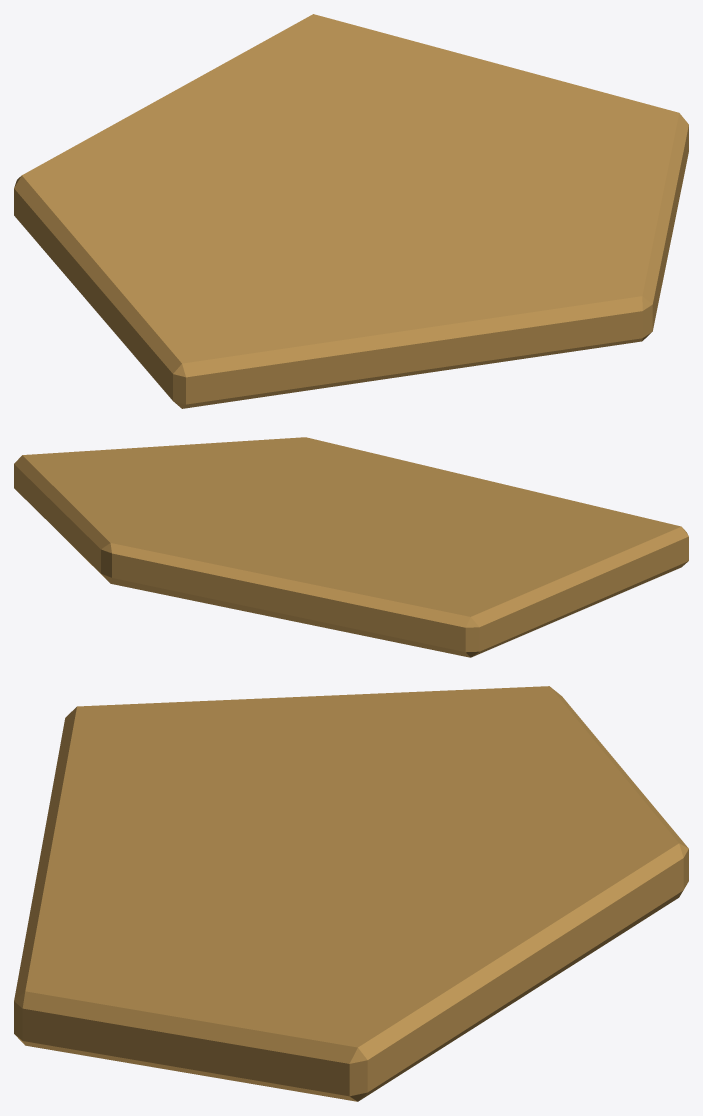
File: fx_shard_bronze.glb
The picture shows the model from 3 angles, top to bottom: view 1: azimuth 30°, elevation 25°; view 2: azimuth 150°, elevation 25°; view 3: azimuth 270°, elevation 25°; orthographic projection. The views are drawn at different scales.
Parts seen in each view (by area): view 1: fx_shard_bronze; view 2: fx_shard_bronze; view 3: fx_shard_bronze.
Boxes of the visible parts, bbox=[...] form: fx_shard_bronze: bbox=[14, 14, 688, 408]; fx_shard_bronze: bbox=[14, 437, 688, 657]; fx_shard_bronze: bbox=[14, 686, 688, 1101].
Bounding box in the file's own units: 0.6537 × 0.1404 × 0.5069.
